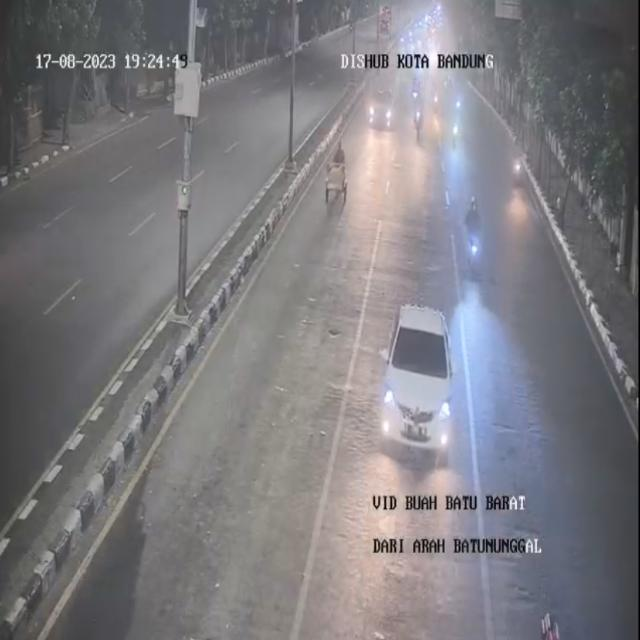cars: (380, 298, 458, 462), (366, 80, 392, 132)
motorcycle: (460, 194, 488, 289), (328, 134, 352, 222), (408, 86, 428, 151), (531, 607, 570, 640), (448, 97, 467, 156)
